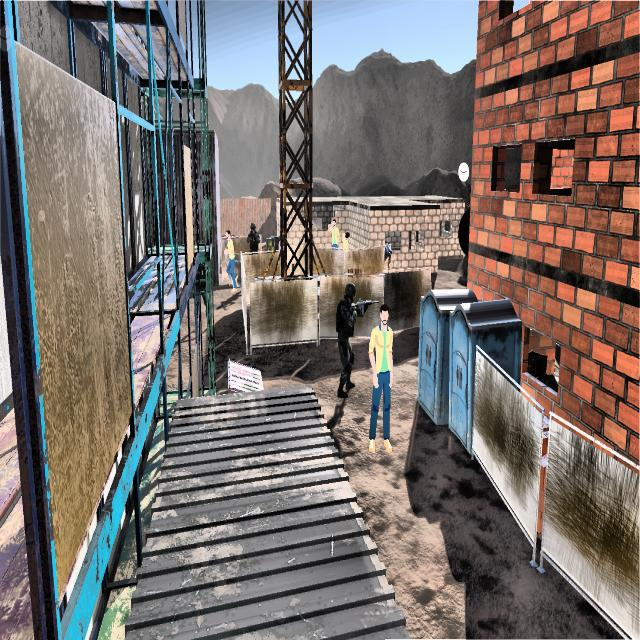bad: (334, 272, 362, 412), (245, 212, 262, 255)
good: (365, 292, 396, 460), (218, 220, 240, 300), (328, 215, 340, 250), (342, 222, 352, 252)
